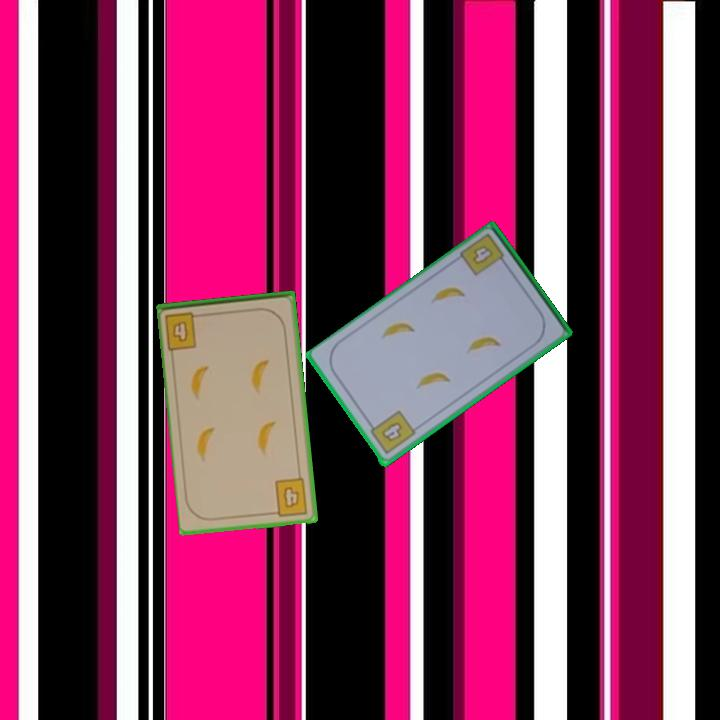4b: (365, 407, 418, 458), (162, 308, 206, 352), (268, 474, 311, 519), (469, 242, 494, 268)
